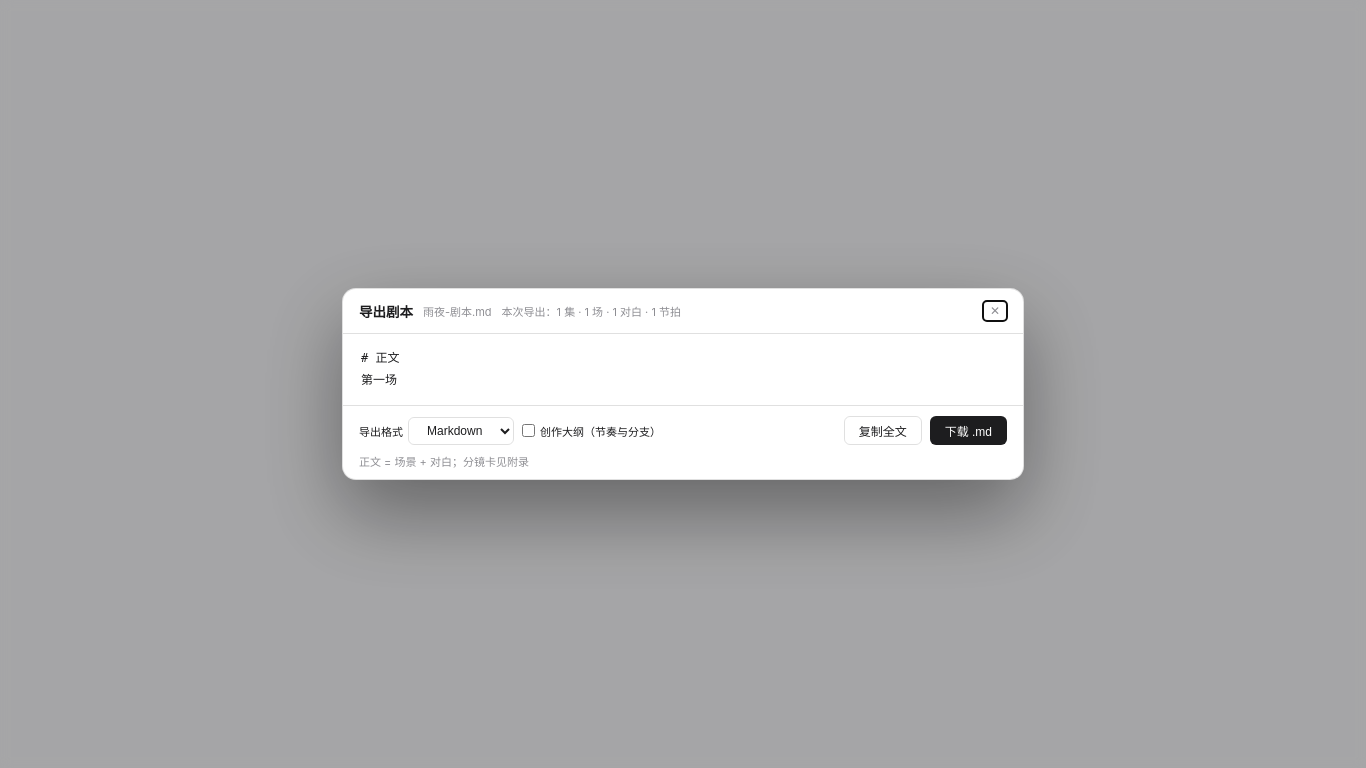
it: ExportDialog（剧本导出对话框） › 「创作大纲」默认关闭；开启后预览并入大纲附录，关闭后还原
The image size is (1366, 768).
Click the checkbox labelled "创作大纲（节奏与分支）". click: [528, 431]
box: [522,424,535,437]
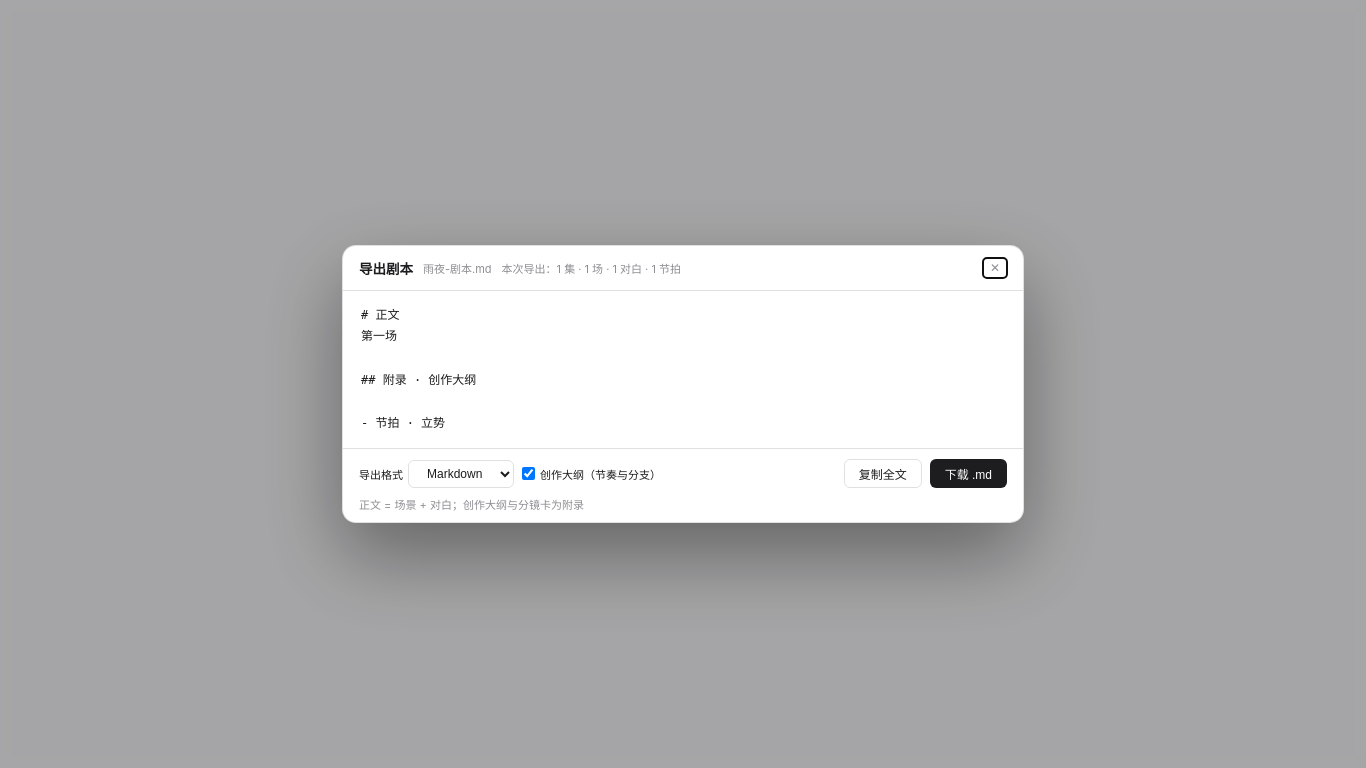
Expected: the checkbox labelled "创作大纲（节奏与分支）" is checked
Expected: the text "# 正文 第一场 ## 附录 · 创作大纲 - 节拍 · 立势" is shown, [361,308,476,430]
Click the checkbox labelled "创作大纲（节奏与分支）". click: [528, 474]
box: [522,467,535,480]
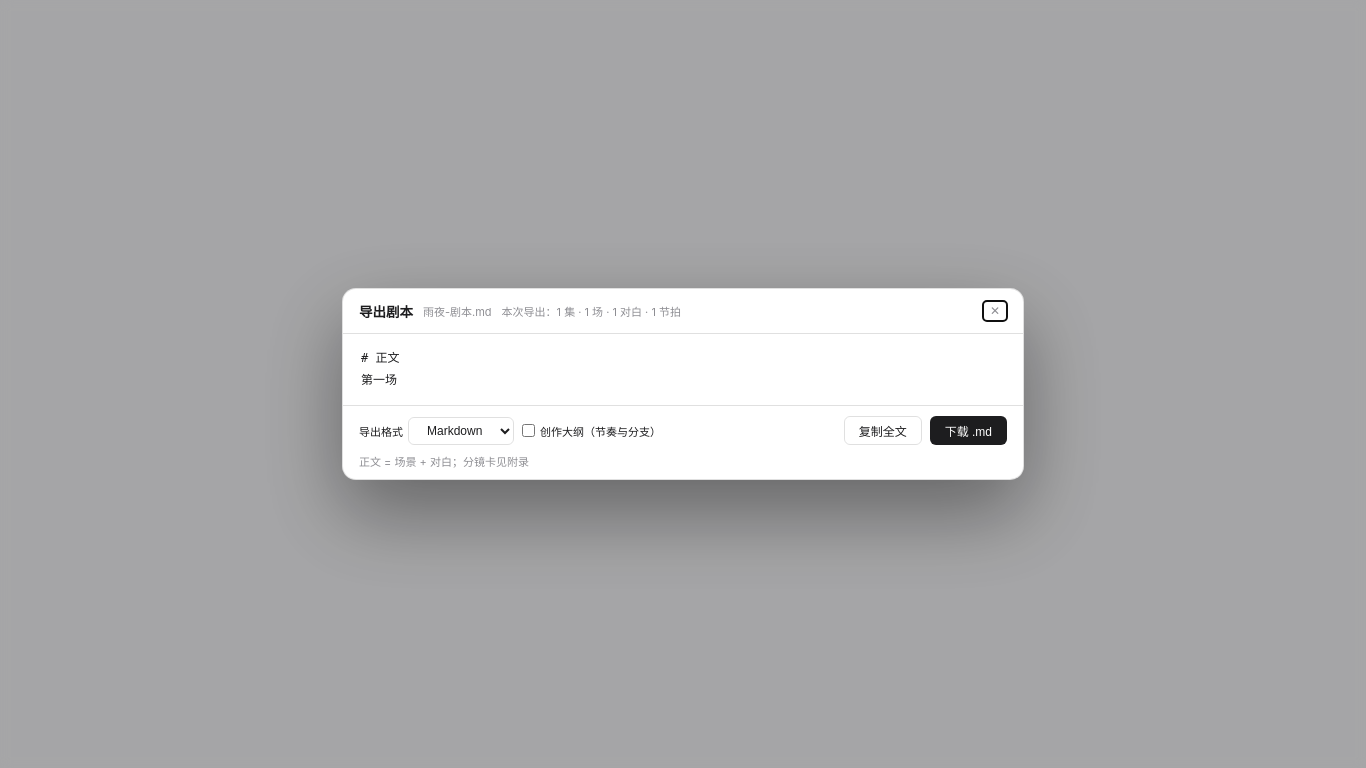
Expected: the text "附录 · 创作大纲" is gone
